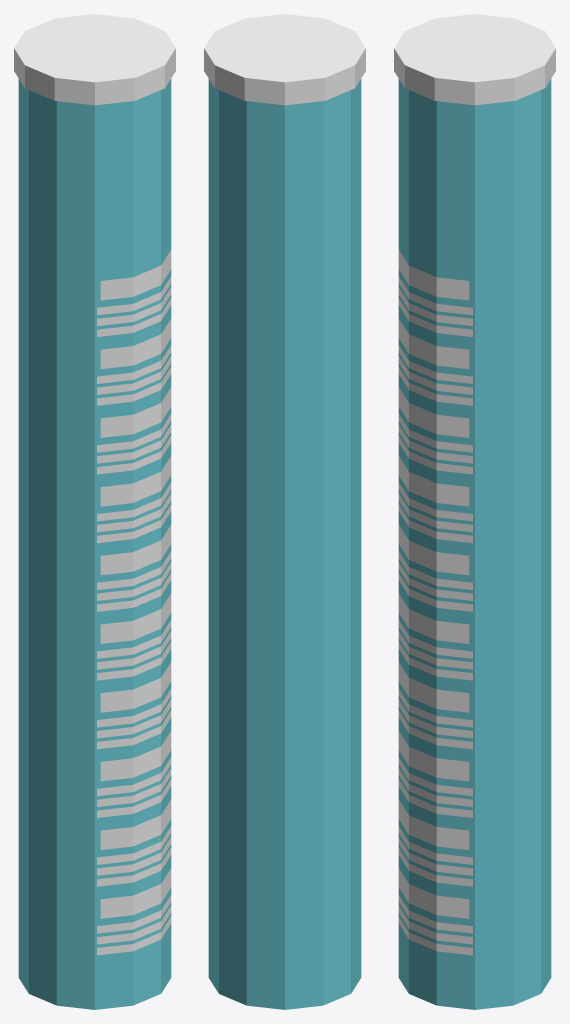
File: SM_Medicine_Glass_02.glb
The picture shows the model from 3 angles, left to right: view 1: azimuth 30°, elevation 25°; view 2: azimuth 150°, elevation 25°; view 3: azimuth 270°, elevation 25°; orthographic projection.
Parts seen in each view (by area): view 1: SM_Medicine_Glass_02, SM_Medicine_Glass_Lid_02; view 2: SM_Medicine_Glass_02, SM_Medicine_Glass_Lid_02; view 3: SM_Medicine_Glass_02, SM_Medicine_Glass_Lid_02.
Boxes of the visible parts, box(x1,y1,x2,y2) form: SM_Medicine_Glass_02: box(18, 79, 171, 1009); SM_Medicine_Glass_Lid_02: box(14, 14, 175, 105); SM_Medicine_Glass_02: box(208, 79, 361, 1009); SM_Medicine_Glass_Lid_02: box(204, 14, 365, 105); SM_Medicine_Glass_02: box(398, 79, 551, 1009); SM_Medicine_Glass_Lid_02: box(394, 14, 555, 105).
Bounding box in the file's own units: 0.0387 × 0.2452 × 0.0387.
